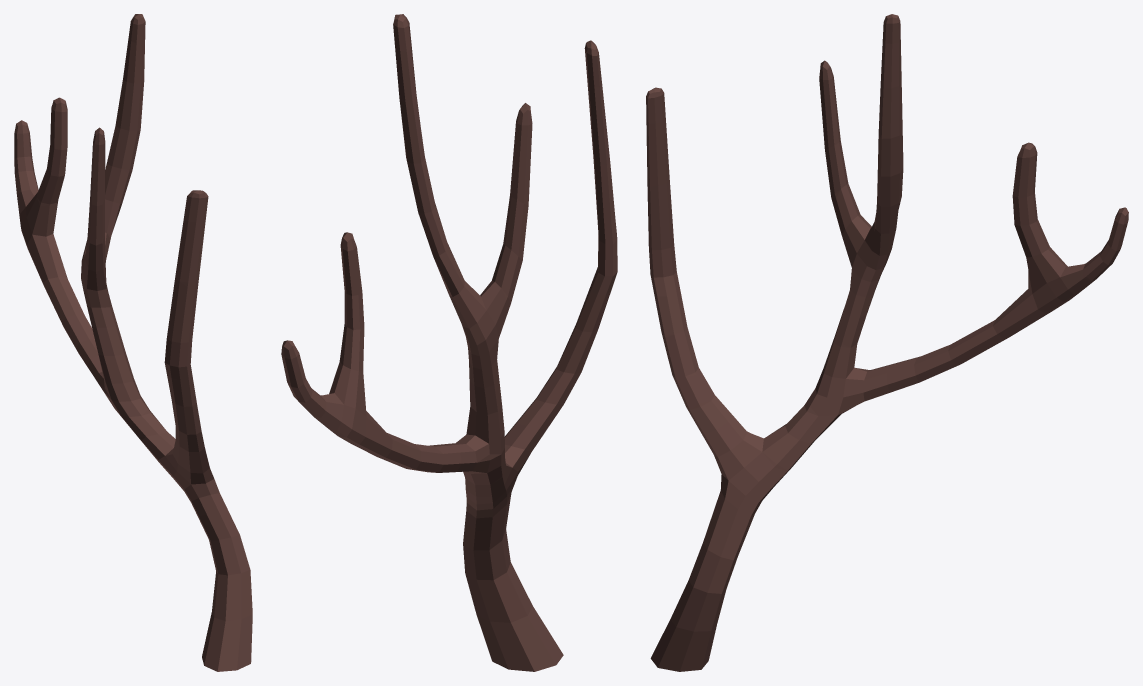
The model's file is Willow_Dead_1.gltf.
3 views of the same model, side by side, from view 1: azimuth 30°, elevation 25°; view 2: azimuth 150°, elevation 25°; view 3: azimuth 270°, elevation 25° (orthographic). The views are drawn at different scales.
Parts seen in each view (by area): view 1: Willow_Dead_1; view 2: Willow_Dead_1; view 3: Willow_Dead_1.
Part boxes in pixels (left/top/right/bottom): Willow_Dead_1: left=14, top=14, right=252, bottom=671; Willow_Dead_1: left=281, top=14, right=617, bottom=671; Willow_Dead_1: left=646, top=14, right=1128, bottom=671.
Bounding box in the file's own units: 0.4992 × 2.69 × 1.81.
